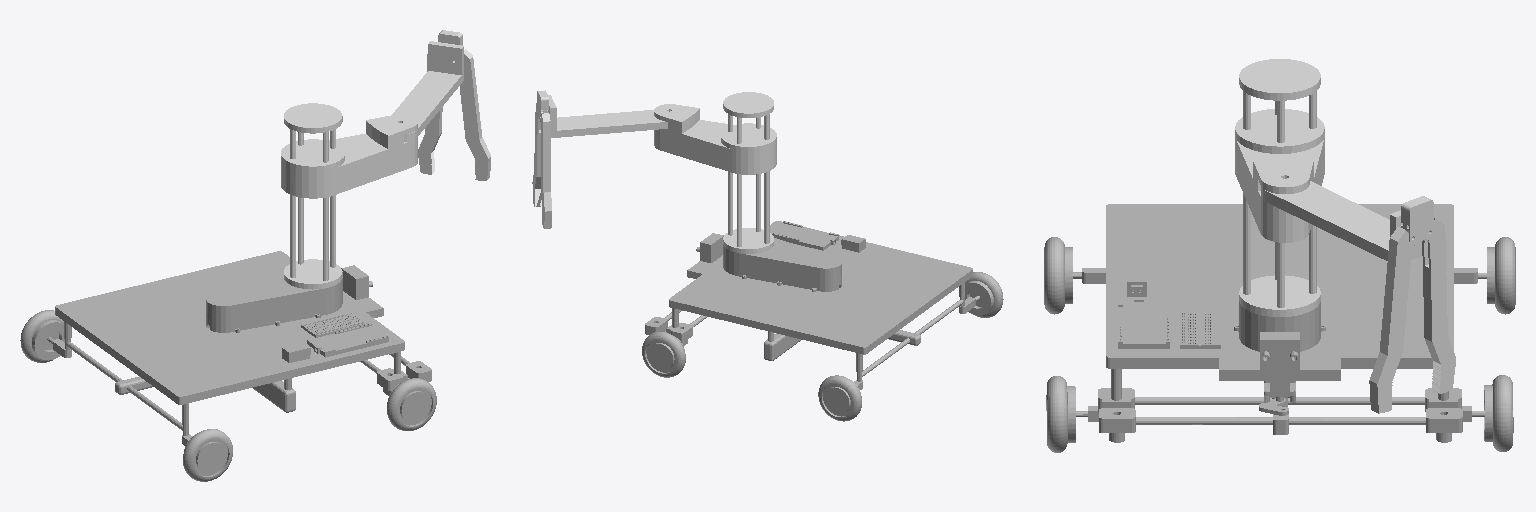
URDF robot description (robot):
<?xml version="1.0" encoding="utf-8"?>
<!-- This URDF was automatically created by SolidWorks to URDF Exporter! Originally created by Stephen Brawner (brawner@gmail.com) 
     Commit Version: 1.6.0-4-g7f85cfe  Build Version: 1.6.7995.38578
     For more information, please see http://wiki.ros.org/sw_urdf_exporter -->
<robot
  name="robot">
  <link
    name="base_link">
    <inertial>
      <origin
        xyz="0.0527725903941101 -0.00619187314083834 -0.0200240277598498"
        rpy="0 0 0" />
      <mass
        value="40.9345824980592" />
      <inertia
        ixx="1.7640119105002"
        ixy="-0.000104187126169531"
        ixz="-0.003283313301697"
        iyy="2.07629695645124"
        iyz="1.26285924198473E-07"
        izz="3.80002048467497" />
    </inertial>
    <visual>
      <origin
        xyz="0 0 0"
        rpy="0 0 0" />
      <geometry>
        <mesh
          filename="package://my_robot/meshes/base_link.STL" />
      </geometry>
      <material
        name="">
        <color
          rgba="0.752941176470588 0.752941176470588 0.752941176470588 1" />
      </material>
    </visual>
    <collision>
      <origin
        xyz="0 0 0"
        rpy="0 0 0" />
      <geometry>
        <mesh
          filename="package://my_robot/meshes/base_link.STL" />
      </geometry>
    </collision>
  </link>
  <link
    name="rotate">
    <inertial>
      <origin
        xyz="-3.39551997630139E-12 9.97666263062971E-10 0.282475504243986"
        rpy="0 0 0" />
      <mass
        value="1.96223877143219" />
      <inertia
        ixx="0.0256744507808563"
        ixy="-2.9313212957348E-20"
        ixz="3.64236139201003E-19"
        iyy="0.0256744507808563"
        iyz="4.89441723929933E-20"
        izz="0.00602893621372457" />
    </inertial>
    <visual>
      <origin
        xyz="0 0 0"
        rpy="0 0 0" />
      <geometry>
        <mesh
          filename="package://my_robot/meshes/rotate.STL" />
      </geometry>
      <material
        name="">
        <color
          rgba="0.894117647058823 0.894117647058823 0.894117647058823 1" />
      </material>
    </visual>
    <collision>
      <origin
        xyz="0 0 0"
        rpy="0 0 0" />
      <geometry>
        <mesh
          filename="package://my_robot/meshes/rotate.STL" />
      </geometry>
    </collision>
  </link>
  <joint
    name="rotate_joint"
    type="continuous">
    <origin
      xyz="0.324999999989974 0 0.15"
      rpy="0 0 0" />
    <parent
      link="base_link" />
    <child
      link="rotate" />
    <axis
      xyz="0 0 -1" />
    <limit
      lower="0"
      upper="0"
      effort="0"
      velocity="0" />
  </joint>
  <link
    name="shoulder">
    <inertial>
      <origin
        xyz="0.129347703964306 0.00454706084897445 -0.0606302942226279"
        rpy="0 0 0" />
      <mass
        value="9.61871806844196" />
      <inertia
        ixx="0.0378238203295257"
        ixy="-0.00576140857106586"
        ixz="-0.00254424029941009"
        iyy="0.201467312075318"
        iyz="-7.60873116583981E-05"
        izz="0.214078058410395" />
    </inertial>
    <visual>
      <origin
        xyz="0 0 0"
        rpy="0 0 0" />
      <geometry>
        <mesh
          filename="package://my_robot/meshes/shoulder.STL" />
      </geometry>
      <material
        name="">
        <color
          rgba="0.894117647058823 0.894117647058823 0.894117647058823 1" />
      </material>
    </visual>
    <collision>
      <origin
        xyz="0 0 0"
        rpy="0 0 0" />
      <geometry>
        <mesh
          filename="package://my_robot/meshes/shoulder.STL" />
      </geometry>
    </collision>
  </link>
  <joint
    name="shoulder_translation"
    type="prismatic">
    <origin
      xyz="0 0 0.44492"
      rpy="0 0 0" />
    <parent
      link="rotate" />
    <child
      link="shoulder" />
    <axis
      xyz="0 0 -1" />
    <limit
      lower="-0.12"
      upper="0.32"
      effort="0"
      velocity="0" />
  </joint>
  <link
    name="arm">
    <inertial>
      <origin
        xyz="0.206955232249304 0.178443310379946 0.00130444447471834"
        rpy="0 0 0" />
      <mass
        value="2.39058427817033" />
      <inertia
        ixx="0.0294407632819301"
        ixy="-0.0290438953849632"
        ixz="-0.00320069202319632"
        iyy="0.0378971597164548"
        iyz="-0.00277158670585175"
        izz="0.064095486732772" />
    </inertial>
    <visual>
      <origin
        xyz="0 0 0"
        rpy="0 0 0" />
      <geometry>
        <mesh
          filename="package://my_robot/meshes/arm.STL" />
      </geometry>
      <material
        name="">
        <color
          rgba="0.894117647058823 0.894117647058823 0.894117647058823 1" />
      </material>
    </visual>
    <collision>
      <origin
        xyz="0 0 0"
        rpy="0 0 0" />
      <geometry>
        <mesh
          filename="package://my_robot/meshes/arm.STL" />
      </geometry>
    </collision>
  </link>
  <joint
    name="arm_joint"
    type="revolute">
    <origin
      xyz="0.349781858369002 0.0123552526233601 0.0100000000000242"
      rpy="0 0 0" />
    <parent
      link="shoulder" />
    <child
      link="arm" />
    <axis
      xyz="0 0 -1" />
    <limit
      lower="-0.21"
      upper="1.5"
      effort="0"
      velocity="0" />
  </joint>
  <link
    name="EOF1">
    <inertial>
      <origin
        xyz="-0.00750000002508056 -0.203646453189227 0.0899943402748454"
        rpy="0 0 0" />
      <mass
        value="0.657977347763493" />
      <inertia
        ixx="0.0116540396231617"
        ixy="-2.97962993407756E-13"
        ixz="1.13331219409041E-13"
        iyy="0.00144250962879155"
        iyz="0.00351539219387846"
        izz="0.0103169512542981" />
    </inertial>
    <visual>
      <origin
        xyz="0 0 0"
        rpy="0 0 0" />
      <geometry>
        <mesh
          filename="package://my_robot/meshes/EOF1.STL" />
      </geometry>
      <material
        name="">
        <color
          rgba="0.894117647058823 0.894117647058823 0.894117647058823 1" />
      </material>
    </visual>
    <collision>
      <origin
        xyz="0 0 0"
        rpy="0 0 0" />
      <geometry>
        <mesh
          filename="package://my_robot/meshes/EOF1.STL" />
      </geometry>
    </collision>
  </link>
  <joint
    name="EOF1_joint"
    type="revolute">
    <origin
      xyz="0.4056 0.30836 0.047"
      rpy="1.5708 0 0.71288" />
    <parent
      link="arm" />
    <child
      link="EOF1" />
    <axis
      xyz="1 0 0" />
    <limit
      lower="0.018"
      upper="0.32"
      effort="0"
      velocity="0" />
  </joint>
  <link
    name="EOF2">
    <inertial>
      <origin
        xyz="-0.00750000000668039 -0.210303043593832 -0.0730991724529134"
        rpy="0 0 0" />
      <mass
        value="0.657977347763493" />
      <inertia
        ixx="0.0116540396231617"
        ixy="2.32915064577579E-13"
        ixz="6.99262696357561E-14"
        iyy="0.000930389716236987"
        iyz="-0.00274789686901122"
        izz="0.0108290711668527" />
    </inertial>
    <visual>
      <origin
        xyz="0 0 0"
        rpy="0 0 0" />
      <geometry>
        <mesh
          filename="package://my_robot/meshes/EOF2.STL" />
      </geometry>
      <material
        name="">
        <color
          rgba="0.894117647058823 0.894117647058823 0.894117647058823 1" />
      </material>
    </visual>
    <collision>
      <origin
        xyz="0 0 0"
        rpy="0 0 0" />
      <geometry>
        <mesh
          filename="package://my_robot/meshes/EOF2.STL" />
      </geometry>
    </collision>
  </link>
  <joint
    name="EOF2_joint"
    type="revolute">
    <origin
      xyz="0.37028 0.34921 0.047"
      rpy="1.5708 0 0.71288" />
    <parent
      link="arm" />
    <child
      link="EOF2" />
    <axis
      xyz="-1 0 0" />
    <limit
      lower="-0.32"
      upper="-0.018"
      effort="0"
      velocity="0" />
    <mimic
      joint="EOF1_joint"
      multiplier="1"
      offset="0" />
  </joint>
</robot>

--- What the picture shows (computed from the rendered views, not written in the file) ---
Views: 3 orthographic renders of the robot side by side, from view 1: azimuth 30°, elevation 25°; view 2: azimuth 150°, elevation 25°; view 3: azimuth 270°, elevation 25°.
Robot: robot — 6 links, 5 joints (3 revolute, 1 continuous, 1 prismatic); root link base_link; default pose: all joints at 0 but 2 set to mid-range because 0 is outside their limits (EOF1_joint = 0.169, EOF2_joint = 0.169).
Visible links, largest first — view 1: base_link, shoulder, rotate, arm, EOF1, EOF2; view 2: base_link, shoulder, rotate, arm, EOF2, EOF1; view 3: base_link, shoulder, rotate, arm, EOF1, EOF2.
Boxes of the visible links, <box> form: base_link: <box>20,251,436,481</box>; shoulder: <box>281,114,417,198</box>; rotate: <box>284,103,342,289</box>; arm: <box>392,30,463,141</box>; EOF1: <box>460,49,490,180</box>; EOF2: <box>418,54,442,174</box>; base_link: <box>642,221,1003,421</box>; shoulder: <box>654,104,776,174</box>; rotate: <box>723,92,773,253</box>; arm: <box>537,90,667,137</box>; EOF2: <box>540,110,551,228</box>; EOF1: <box>532,103,541,206</box>; base_link: <box>1044,204,1515,452</box>; shoulder: <box>1235,109,1324,242</box>; rotate: <box>1239,59,1320,316</box>; arm: <box>1261,181,1433,260</box>; EOF1: <box>1369,225,1420,413</box>; EOF2: <box>1422,218,1455,393</box>.
Bounding box of the posed robot: 1.66 × 1.15 × 0.9769 m (x, y, z).
6 mesh visuals loaded from 6 distinct referenced files (6 binary STL).
